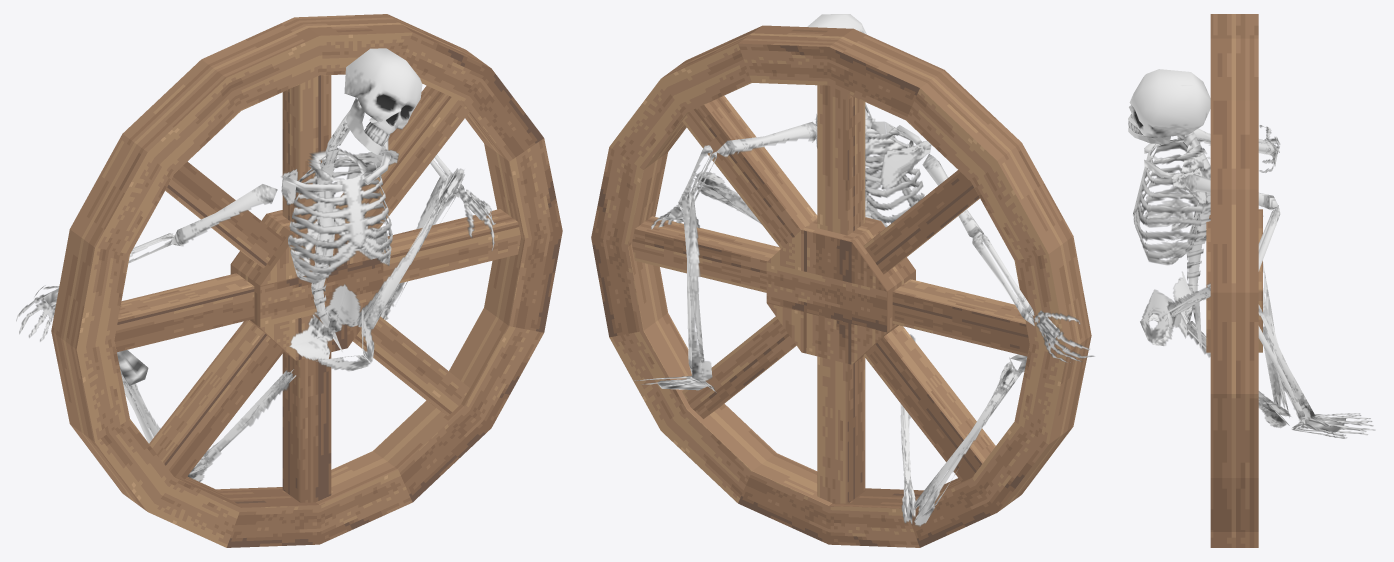
Rendered from skeleton_wheel.glb.
3 views of the same model, side by side, from view 1: azimuth 30°, elevation 25°; view 2: azimuth 150°, elevation 25°; view 3: azimuth 270°, elevation 25° (orthographic). The views are drawn at different scales.
Parts seen in each view (by area): view 1: Cylinder, SKELETON.004; view 2: Cylinder, SKELETON.004; view 3: Cylinder, SKELETON.004.
Boxes of the visible parts, x1,y1,x2,y2 form: Cylinder: [51, 14, 562, 547]; SKELETON.004: [16, 48, 495, 481]; Cylinder: [591, 25, 1091, 547]; SKELETON.004: [634, 14, 1094, 526]; Cylinder: [1206, 14, 1262, 547]; SKELETON.004: [1128, 69, 1375, 438].
Size of the model in its own units: 1.76 by 1.64 by 0.7738.
2 materials, 2 textured.
